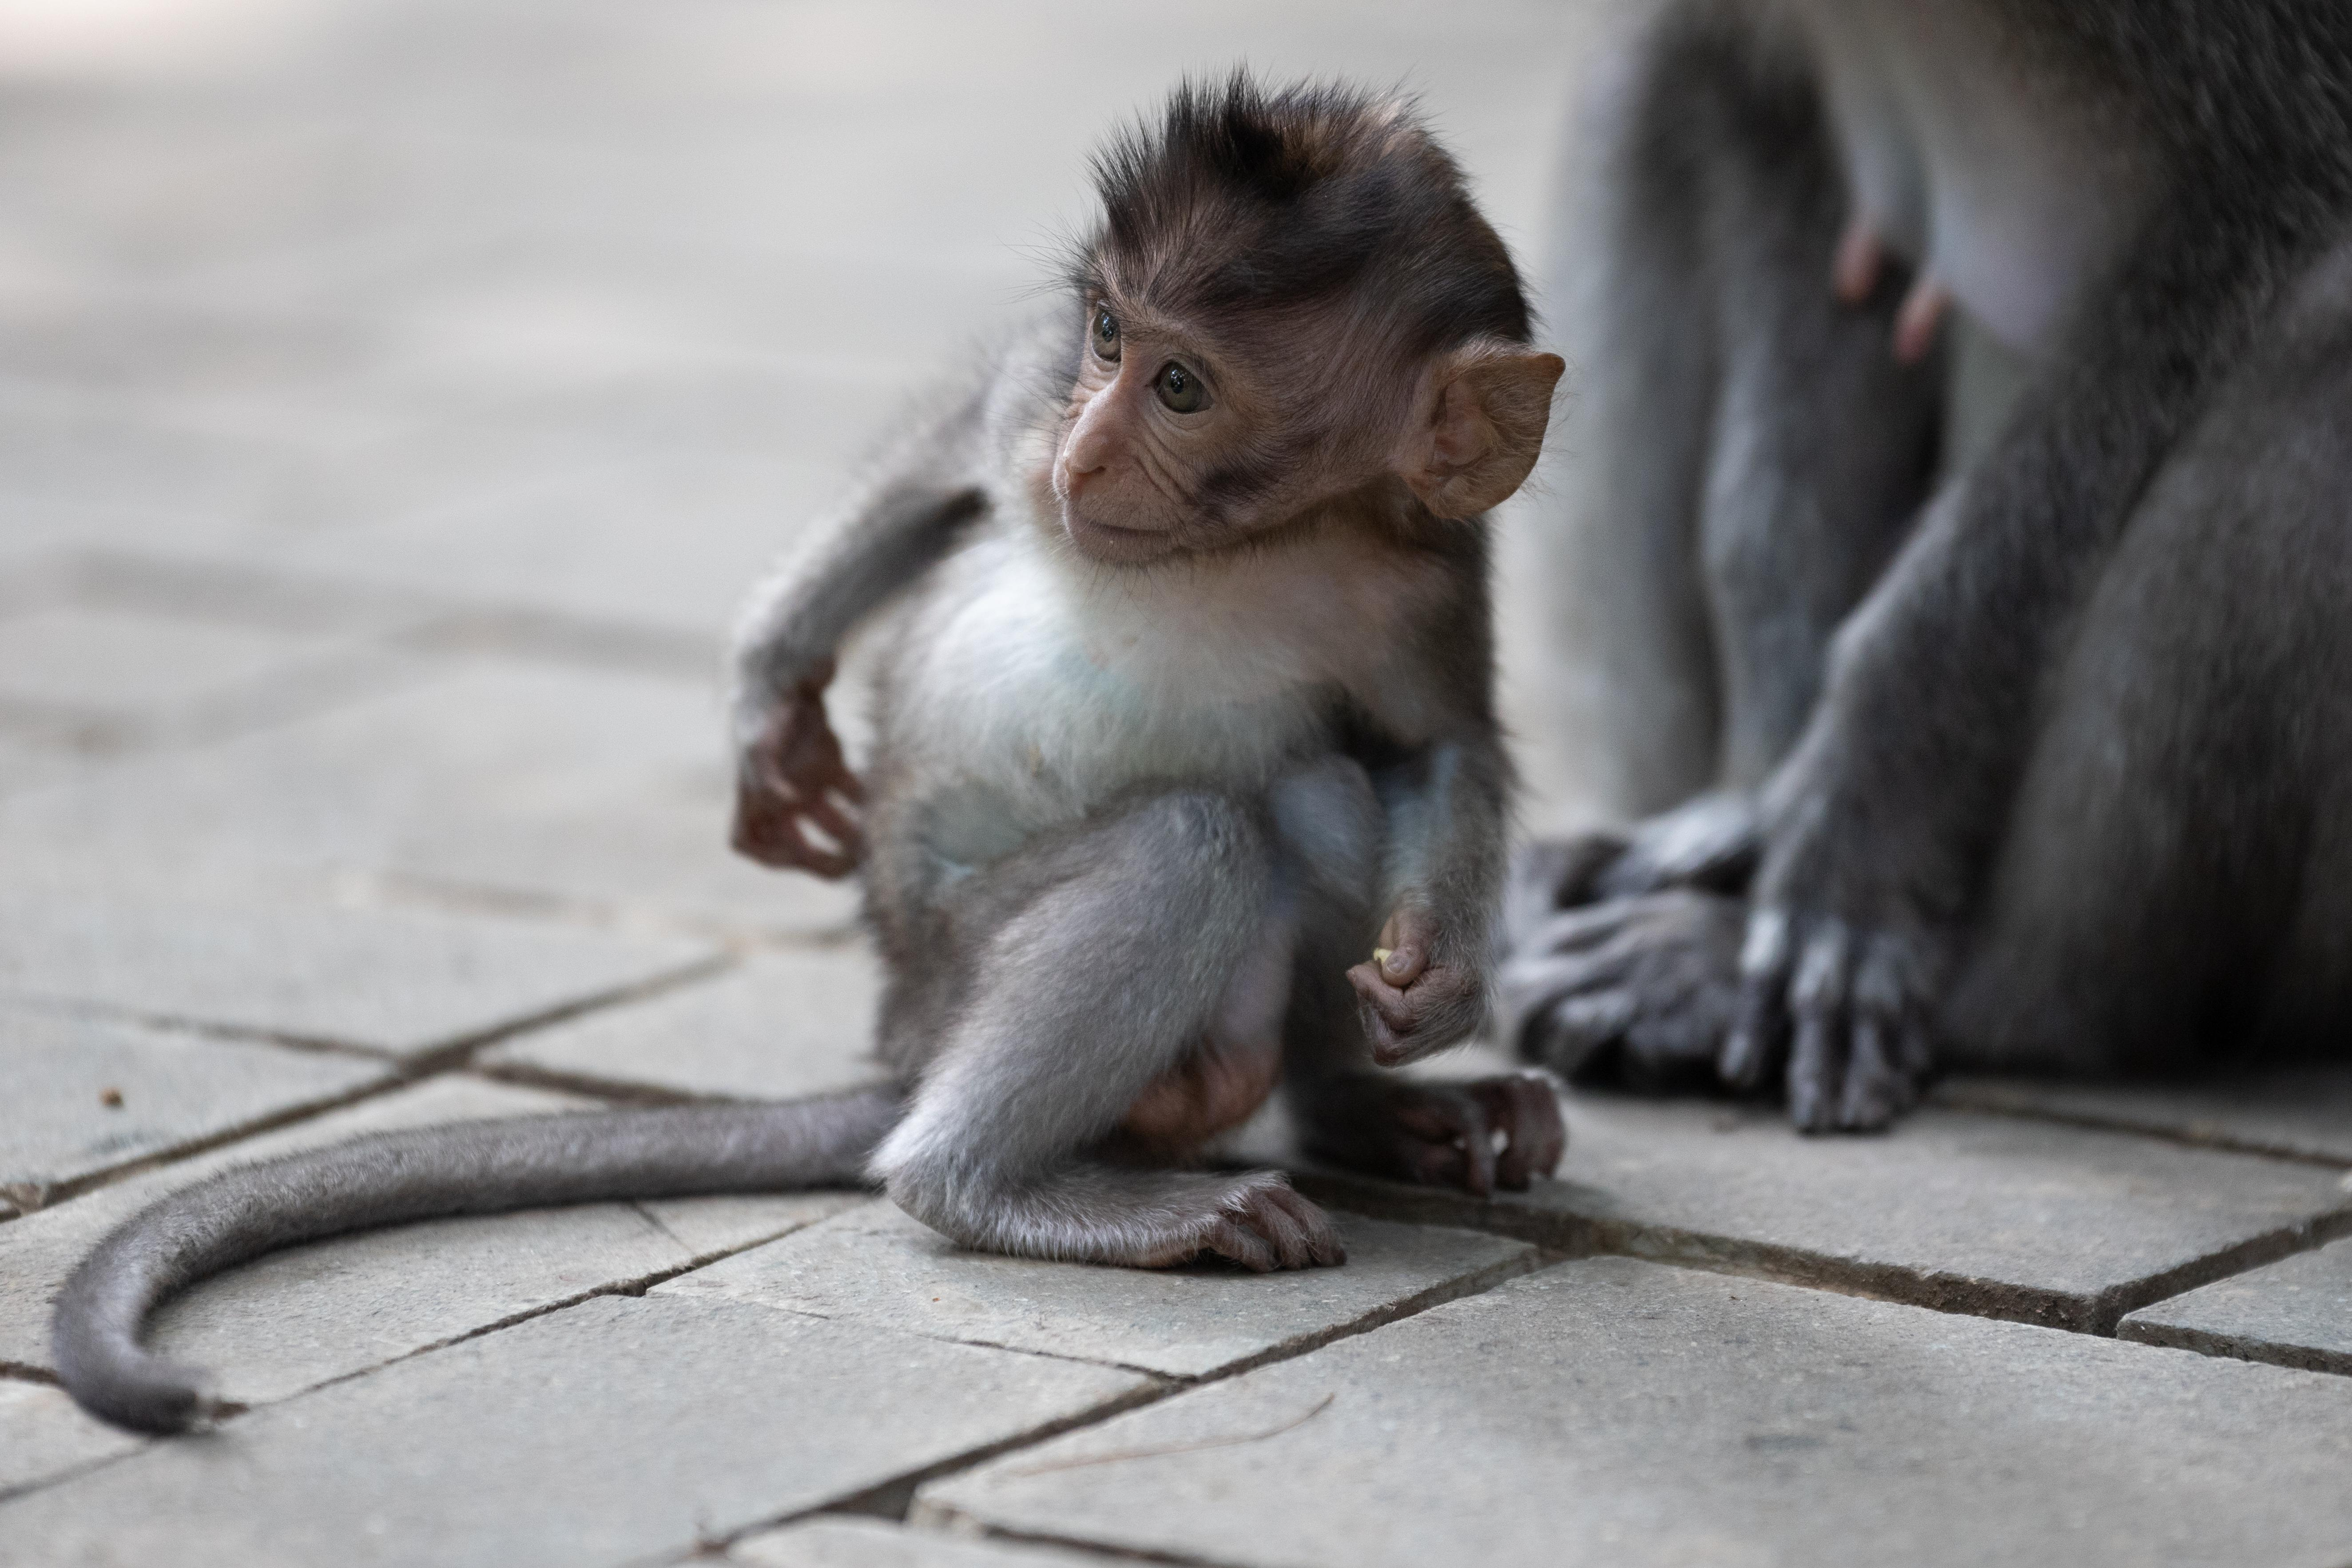monkey: (21, 70, 1649, 1435)
